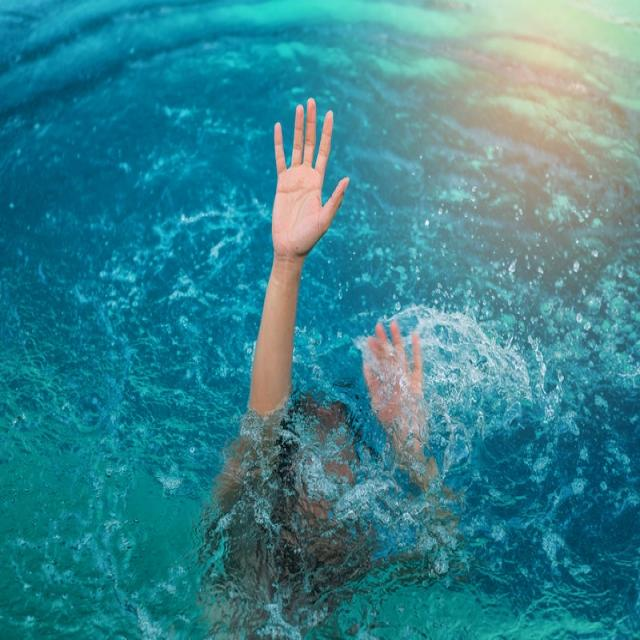drowning: (193, 86, 460, 589)
